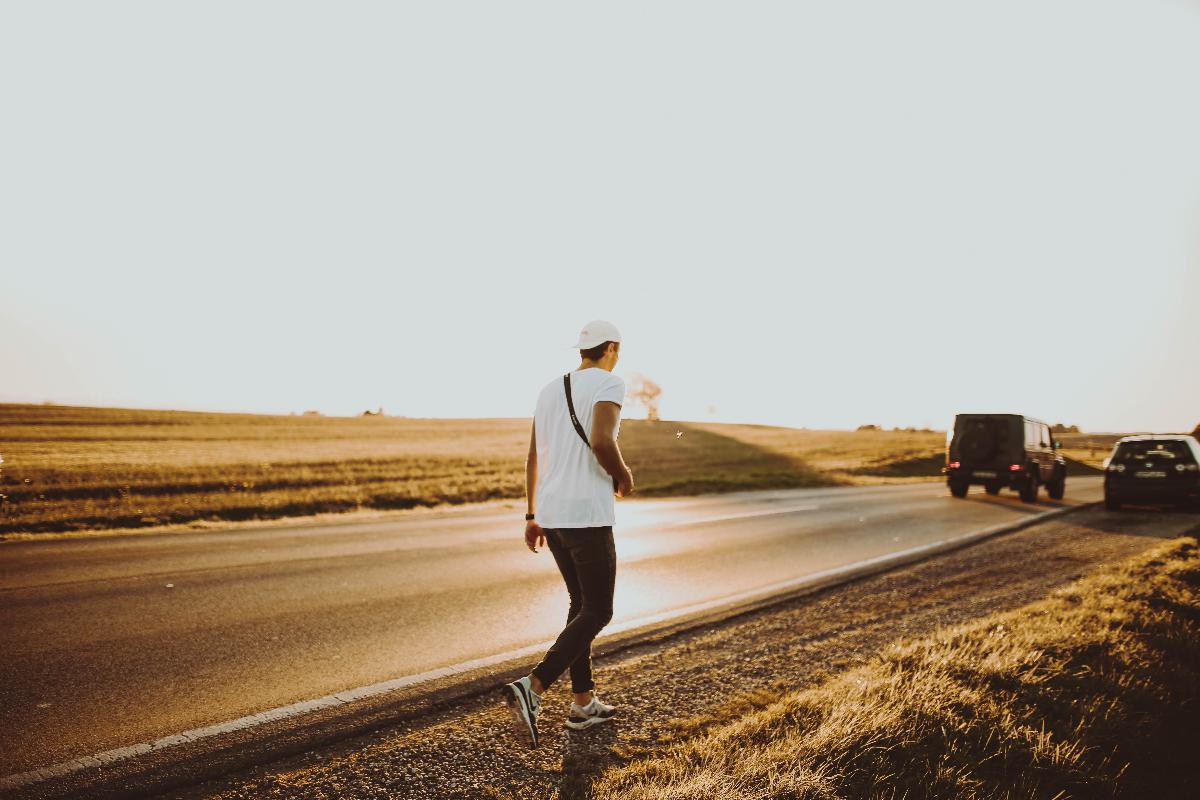Person: (504, 317, 636, 735)
